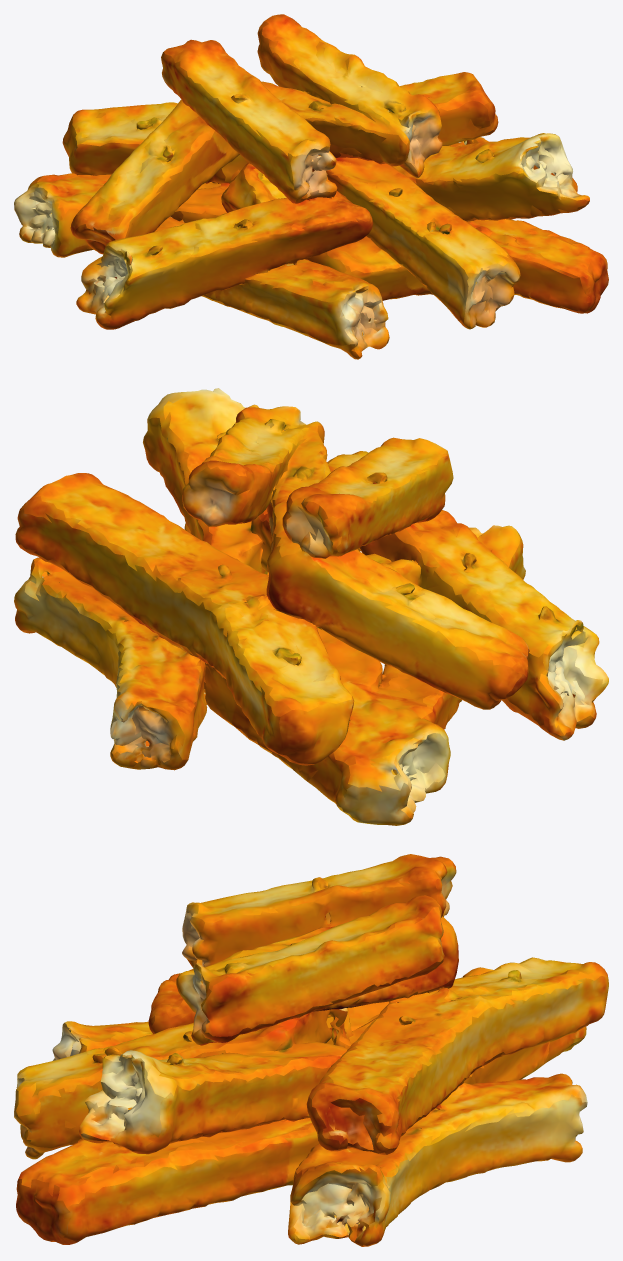
File: rosemary-fries-2.glb
3 views of the same model, one above another, from view 1: azimuth 30°, elevation 25°; view 2: azimuth 150°, elevation 25°; view 3: azimuth 270°, elevation 25° (orthographic). The views are drawn at different scales.
Parts seen in each view (by area): view 1: geometry_0; view 2: geometry_0; view 3: geometry_0.
Part boxes in pixels (x1=…): geometry_0: x1=14, y1=14, x2=608, y2=359; geometry_0: x1=14, y1=388, x2=608, y2=825; geometry_0: x1=14, y1=854, x2=608, y2=1246.
Size of the model in its own units: 0.075 by 0.0351 by 0.0749.
1 material, 1 textured.
